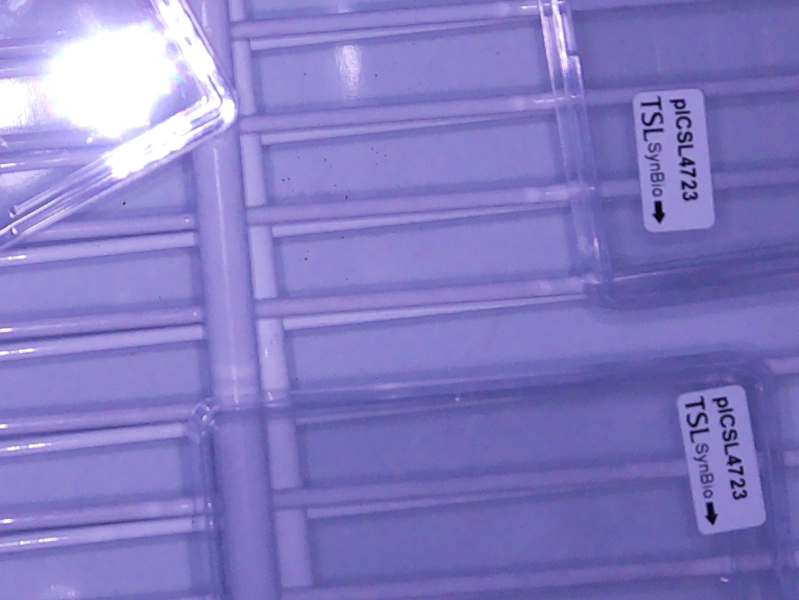plate: (185, 349, 791, 600), (537, 1, 799, 313), (1, 1, 242, 247)
